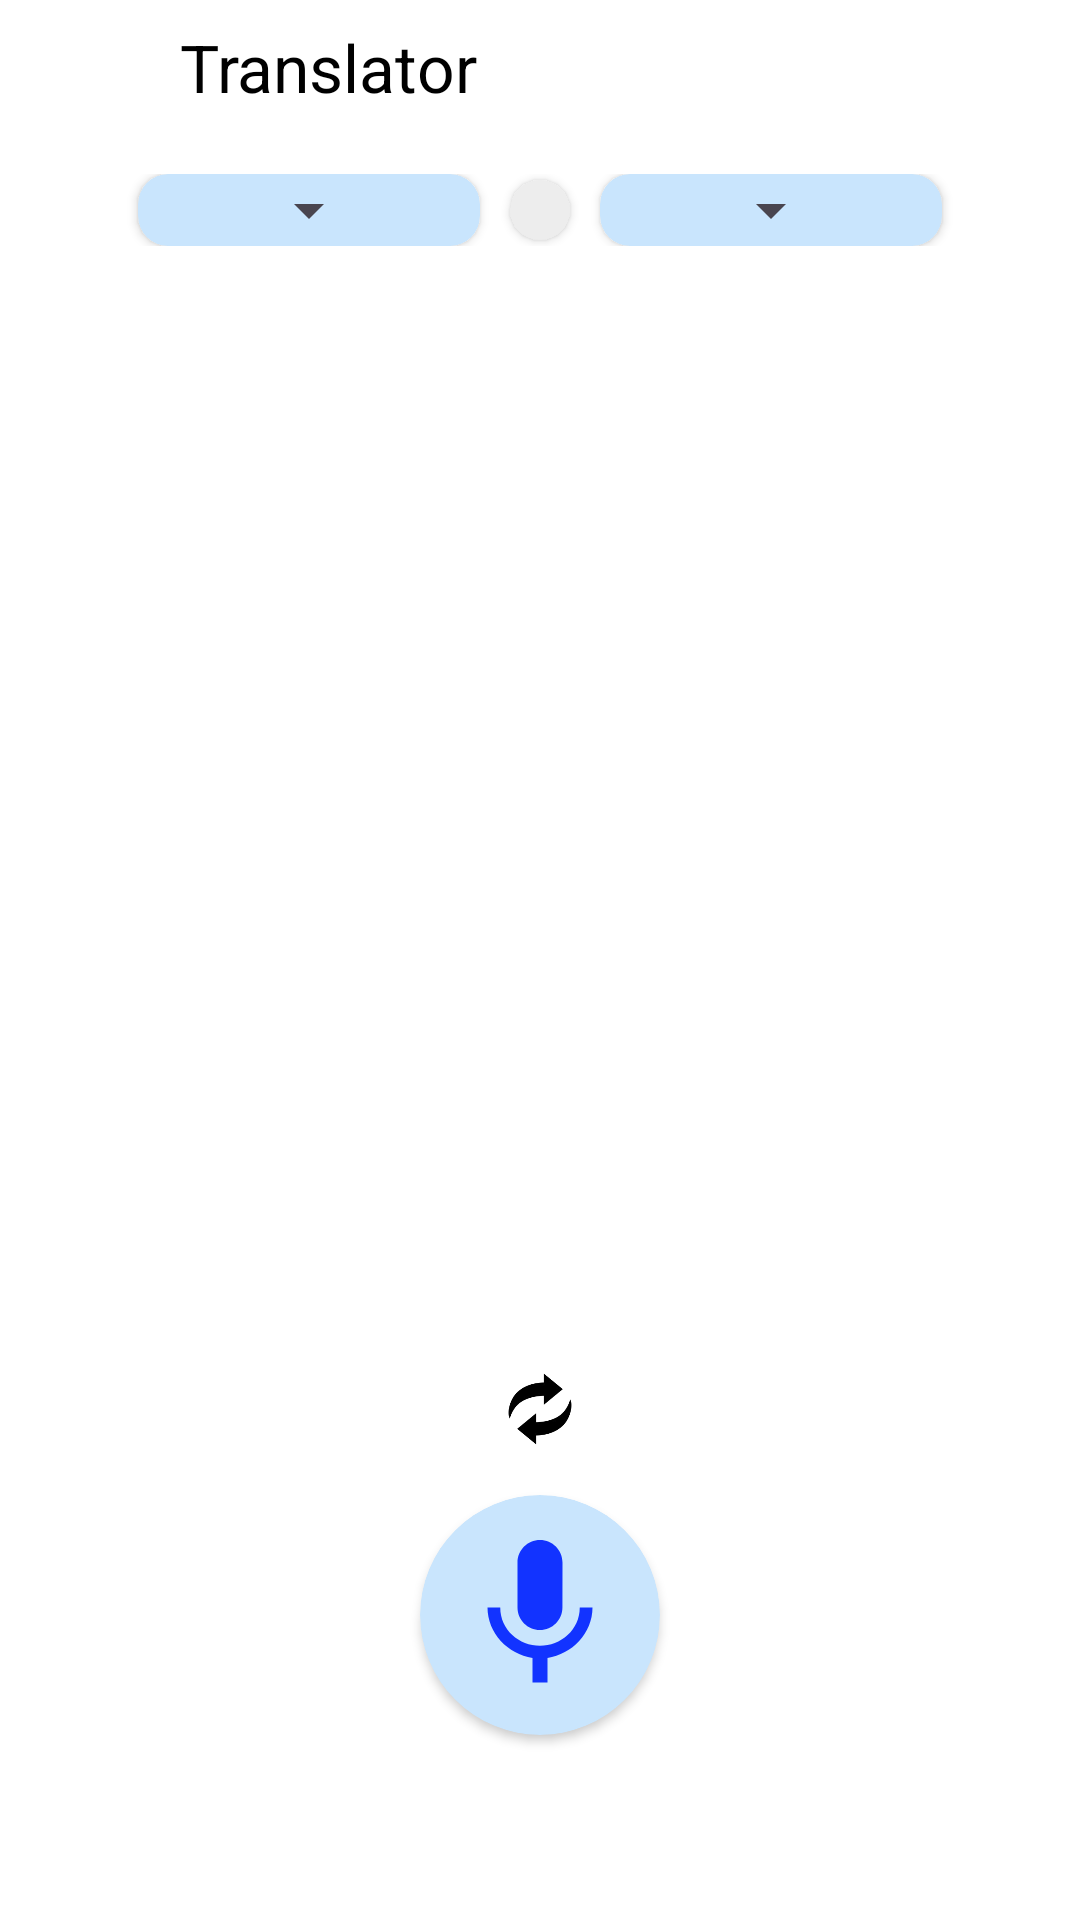

Icons on this 1080 × 1920 Android screen, each with its box as (x1, y1, x2, y2):
mic: (487, 1540, 593, 1683)
swap: (508, 1374, 572, 1444)
